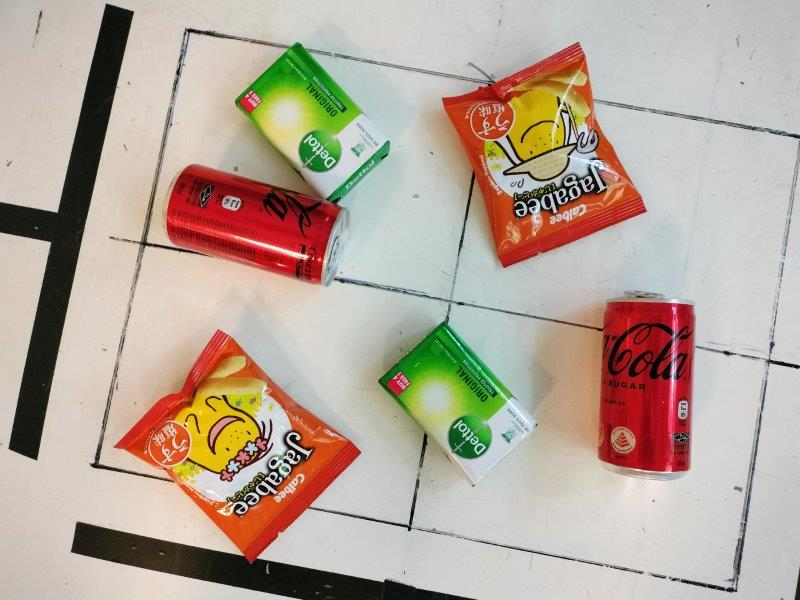Coke: (160, 161, 353, 287), (596, 290, 698, 483)
Dettol: (377, 323, 537, 488), (235, 44, 391, 204)
Jagabee: (115, 331, 362, 564), (439, 43, 645, 270)
